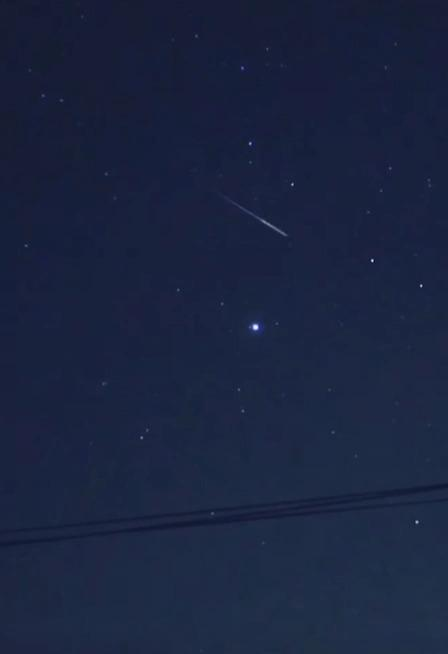meteorite: (214, 189, 292, 243)
